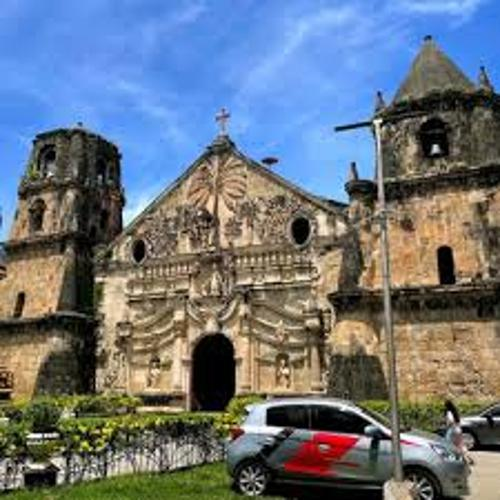Miagao Church: (8, 28, 500, 418)
